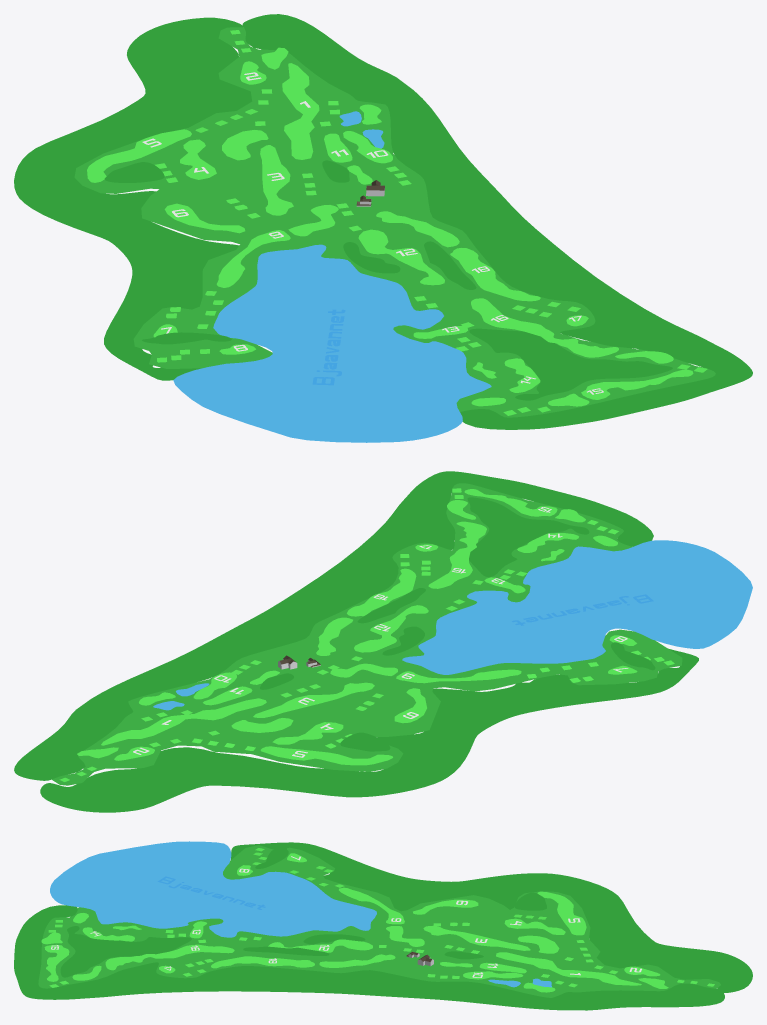
The model's file is worldMap.gltf.
3 views of the same model, one above another, from view 1: azimuth 30°, elevation 25°; view 2: azimuth 150°, elevation 25°; view 3: azimuth 270°, elevation 25° (orthographic). The views are drawn at different scales.
Parts seen in each view (by area): view 1: forest, rough, Water, hole1, hole3, hole18, hole16, hole9, hole5, hole12, hole15, hole14 (+5 smaller); view 2: forest, rough, Water, hole1, hole3, hole18, hole16, hole9, hole5, hole12, hole15, hole14 (+5 smaller); view 3: forest, rough, Water, hole1, hole18, hole3, hole16, hole9, hole5, hole15, hole12, hole14 (+5 smaller).
Part boxes in pixels (bbox=[...]): forest: bbox=[14, 14, 752, 429]; rough: bbox=[74, 27, 715, 417]; Water: bbox=[173, 111, 491, 442]; hole1: bbox=[261, 47, 319, 195]; hole3: bbox=[222, 89, 293, 215]; hole18: bbox=[376, 211, 580, 311]; hole16: bbox=[471, 298, 706, 372]; hole9: bbox=[197, 205, 338, 328]; hole5: bbox=[87, 109, 257, 182]; hole12: bbox=[336, 203, 444, 285]; hole15: bbox=[503, 369, 693, 415]; hole14: bbox=[456, 337, 540, 406]; forest: bbox=[14, 471, 698, 812]; rough: bbox=[52, 483, 682, 785]; Water: bbox=[153, 540, 752, 710]; hole1: bbox=[77, 684, 320, 758]; hole3: bbox=[149, 682, 374, 747]; hole18: bbox=[316, 554, 416, 655]; hole16: bbox=[428, 488, 486, 588]; hole9: bbox=[330, 662, 598, 683]; hole5: bbox=[192, 738, 392, 765]; hole12: bbox=[317, 605, 428, 674]; hole15: bbox=[464, 489, 618, 534]; hole14: bbox=[499, 533, 617, 579]; forest: bbox=[14, 842, 752, 1010]; rough: bbox=[38, 845, 720, 997]; Water: bbox=[50, 841, 551, 987]; hole1: bbox=[444, 945, 668, 988]; hole18: bbox=[183, 954, 395, 976]; hole3: bbox=[423, 925, 617, 974]; hole16: bbox=[49, 944, 234, 987]; hole9: bbox=[289, 870, 424, 946]; hole5: bbox=[537, 891, 593, 962]; hole15: bbox=[41, 920, 69, 981]; hole12: bbox=[268, 939, 424, 952]; hole14: bbox=[73, 913, 185, 941].
Size of the model in its own units: 9.45 by 0.2451 by 17.28.
